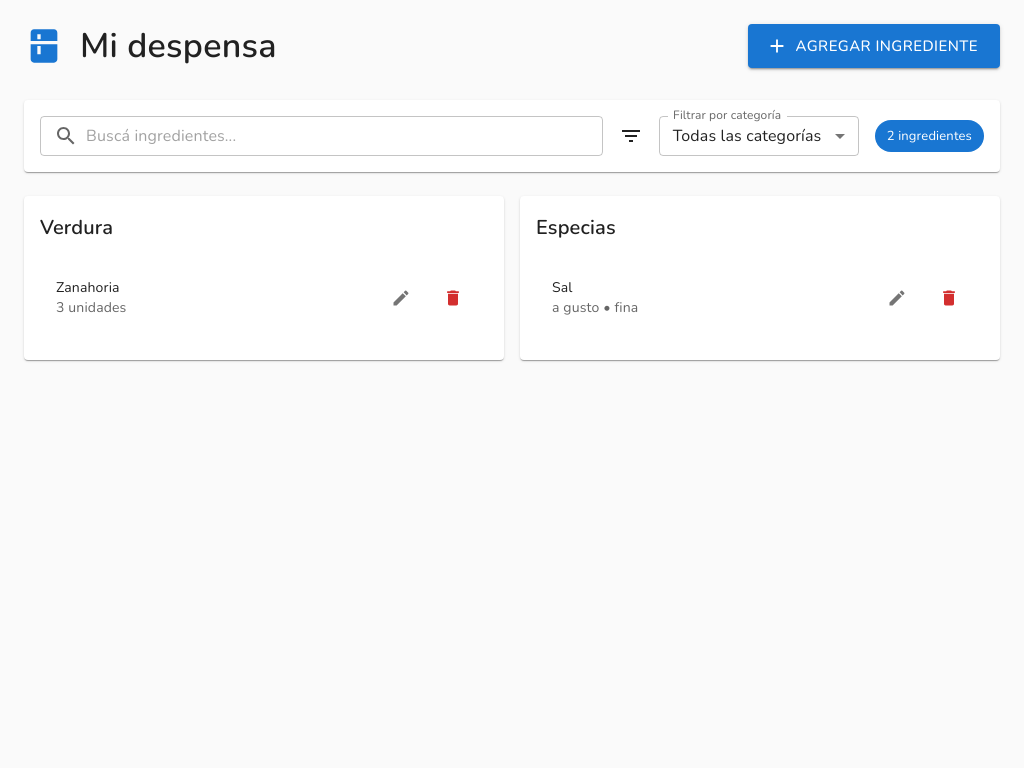
Test: Pantry in Spanish › should ask in Spanish before deleting, without renaming the item
Expected: the text "Zanahoria" is shown, [56,278,120,297]
Click the button with test id "DeleteIcon".
click(453, 298)  # box [431,276,475,320]
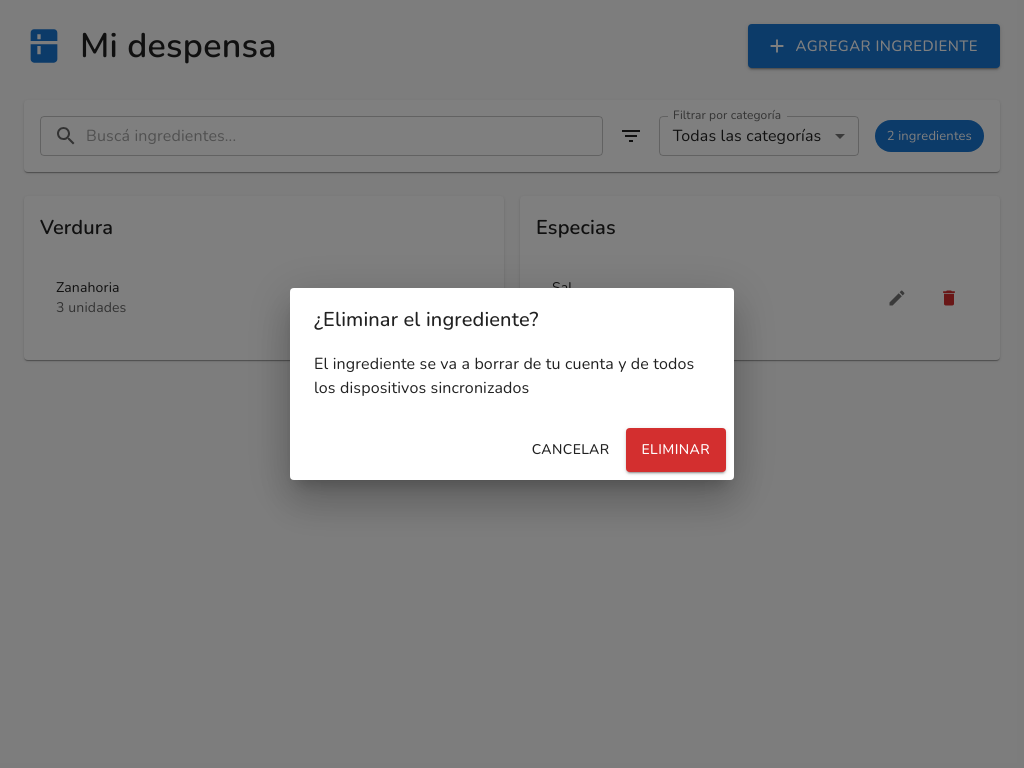
Expected: the heading "¿Eliminar el ingrediente?" is shown, [314,306,539,333]
Expected: the button "Eliminar" is shown, [626,428,726,472]
Expected: the button "Cancelar" is shown, [524,428,618,472]
